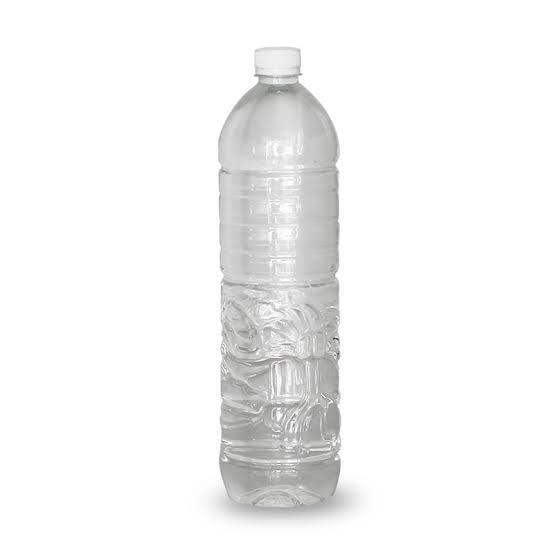HDPE: (253, 46, 302, 81)
PETE: (216, 79, 340, 509)
